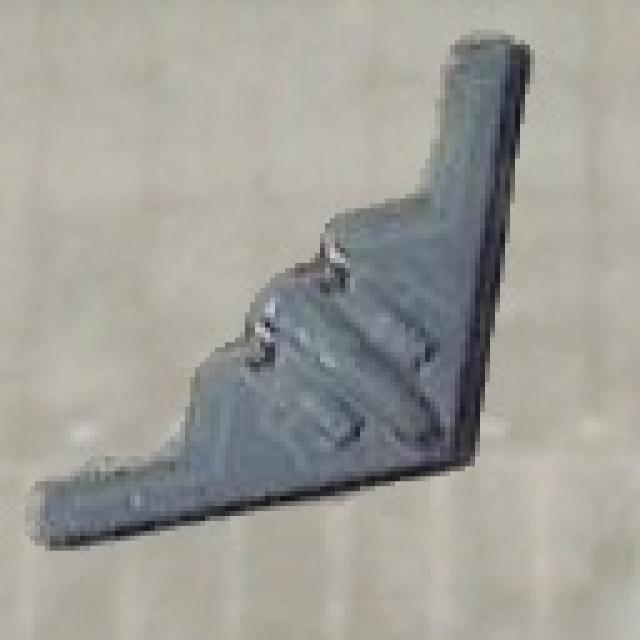B-2_TopDown: (20, 25, 535, 551)
